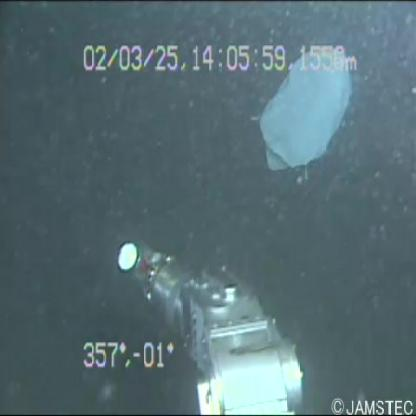Rov: (101, 239, 310, 416)
Rác: (249, 23, 361, 183)
